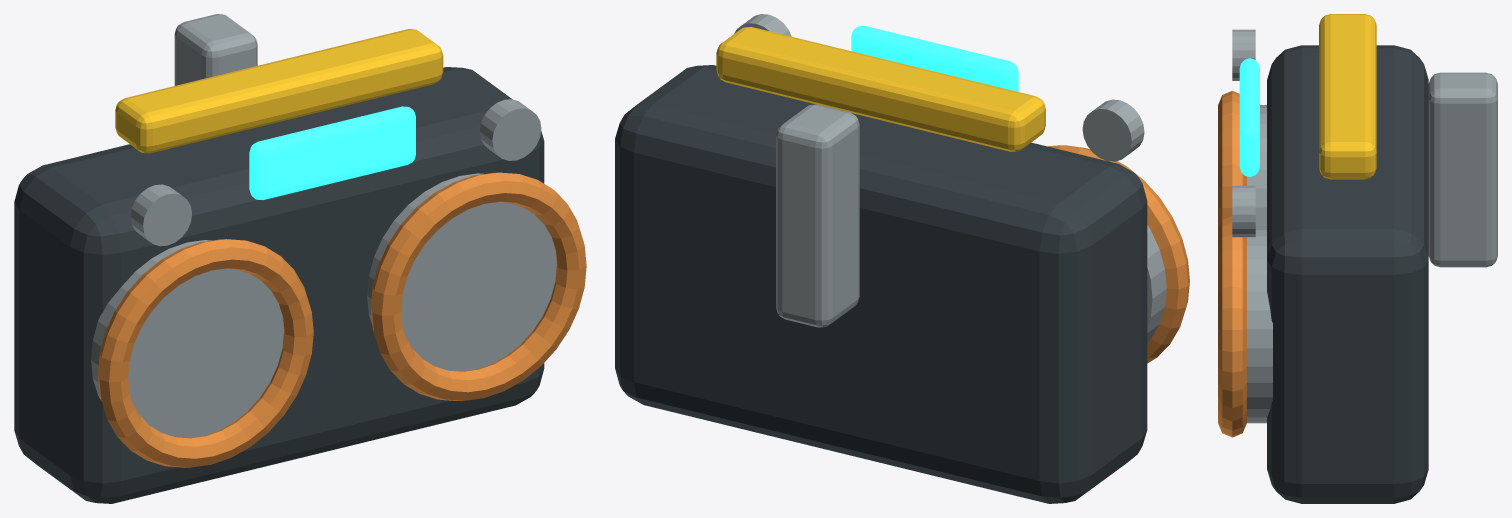
The model's file is boombox_variant_d.glb.
The picture shows the model from 3 angles, left to right: view 1: azimuth 30°, elevation 25°; view 2: azimuth 150°, elevation 25°; view 3: azimuth 270°, elevation 25°; orthographic projection. The views are drawn at different scales.
Parts seen in each view (by area): view 1: Speaker cabinet, Speaker cone, Speaker cone.001, Handle, Speaker surround.001, Speaker surround, Display, Modular attachment rail, Control knob, Control knob.001; view 2: Speaker cabinet, Handle, Modular attachment rail, Display, Speaker surround.001, Control knob.001, Speaker cone, Control knob; view 3: Speaker cabinet, Modular attachment rail, Handle, Speaker surround, Speaker cone.001, Speaker surround.001, Display, Control knob, Speaker cone, Control knob.001.
Boxes of the visible parts, x1=… form: Speaker cabinet: x1=14, y1=67, x2=544, y2=503; Speaker cone: x1=91, y1=240, x2=283, y2=438; Speaker cone.001: x1=367, y1=173, x2=556, y2=371; Handle: x1=115, y1=29, x2=443, y2=153; Speaker surround.001: x1=98, y1=239, x2=313, y2=467; Speaker surround: x1=370, y1=172, x2=586, y2=400; Display: x1=249, y1=106, x2=415, y2=199; Modular attachment rail: x1=174, y1=14, x2=257, y2=85; Control knob: x1=479, y1=99, x2=541, y2=160; Control knob.001: x1=130, y1=184, x2=191, y2=246; Speaker cabinet: x1=615, y1=65, x2=1147, y2=503; Handle: x1=716, y1=27, x2=1045, y2=151; Modular attachment rail: x1=776, y1=104, x2=859, y2=327; Display: x1=851, y1=26, x2=1018, y2=91; Speaker surround.001: x1=1047, y1=145, x2=1189, y2=363; Control knob.001: x1=1082, y1=99, x2=1144, y2=161; Speaker cone: x1=1147, y1=225, x2=1166, y2=342; Control knob: x1=734, y1=14, x2=791, y2=36; Speaker cabinet: x1=1267, y1=45, x2=1428, y2=503; Modular attachment rail: x1=1428, y1=72, x2=1497, y2=267; Handle: x1=1319, y1=14, x2=1376, y2=179; Speaker surround: x1=1218, y1=213, x2=1246, y2=437; Speaker cone.001: x1=1247, y1=227, x2=1272, y2=423; Speaker surround.001: x1=1218, y1=91, x2=1246, y2=226; Display: x1=1239, y1=58, x2=1259, y2=176; Control knob: x1=1232, y1=185, x2=1255, y2=237; Speaker cone: x1=1247, y1=105, x2=1266, y2=226; Control knob.001: x1=1232, y1=29, x2=1255, y2=80.
Size of what is drawn, in the model's own units: 0.89 by 0.635 by 0.485.
